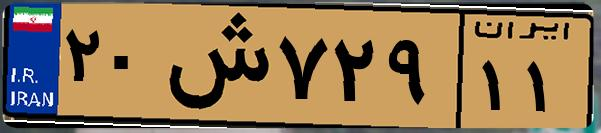0: (110, 28, 158, 98)
1: (475, 38, 525, 113), (525, 38, 570, 115)
2: (330, 28, 385, 110), (57, 26, 110, 100)
7: (270, 28, 330, 110)
9: (385, 28, 445, 110)
ش: (158, 12, 270, 120)
